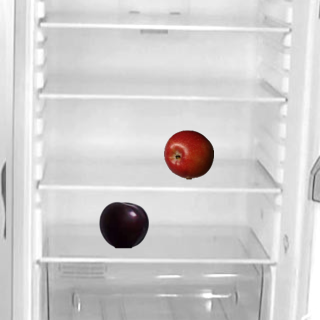Apple Braeburn: (163, 129, 213, 179)
Cherry Wax Black: (98, 199, 148, 249)
